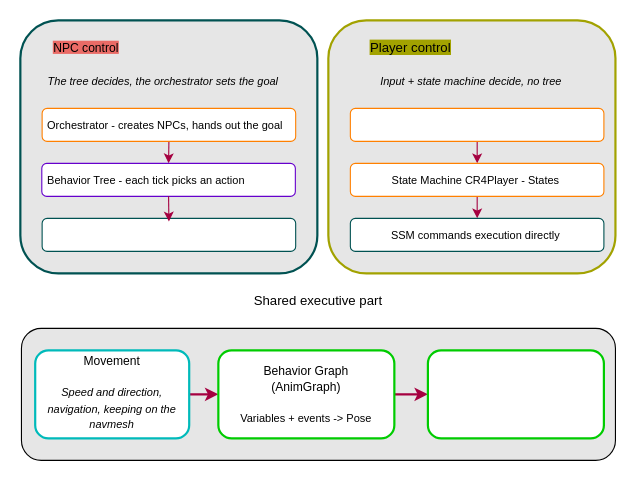
Image size: 635x480. Some labels were removed from this diagram. Each missing label, with the box of its shape:
Actor Action - passes commands for execution: (41, 217, 296, 251)
Animation Skeleton, motion, animevents: (426, 349, 604, 439)
PlayerInput - Buttons / Stick / Camera: (349, 107, 604, 141)
